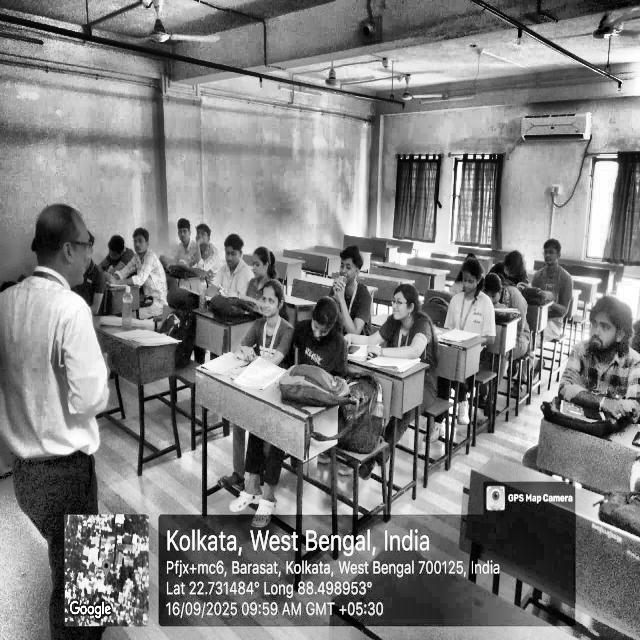Focus: (171, 187, 273, 308), (35, 179, 118, 310), (255, 283, 337, 390), (576, 258, 634, 397), (92, 219, 165, 297), (332, 235, 378, 322), (536, 230, 566, 290)
Not Focus: (444, 256, 494, 325), (381, 278, 418, 339), (495, 248, 530, 312)
